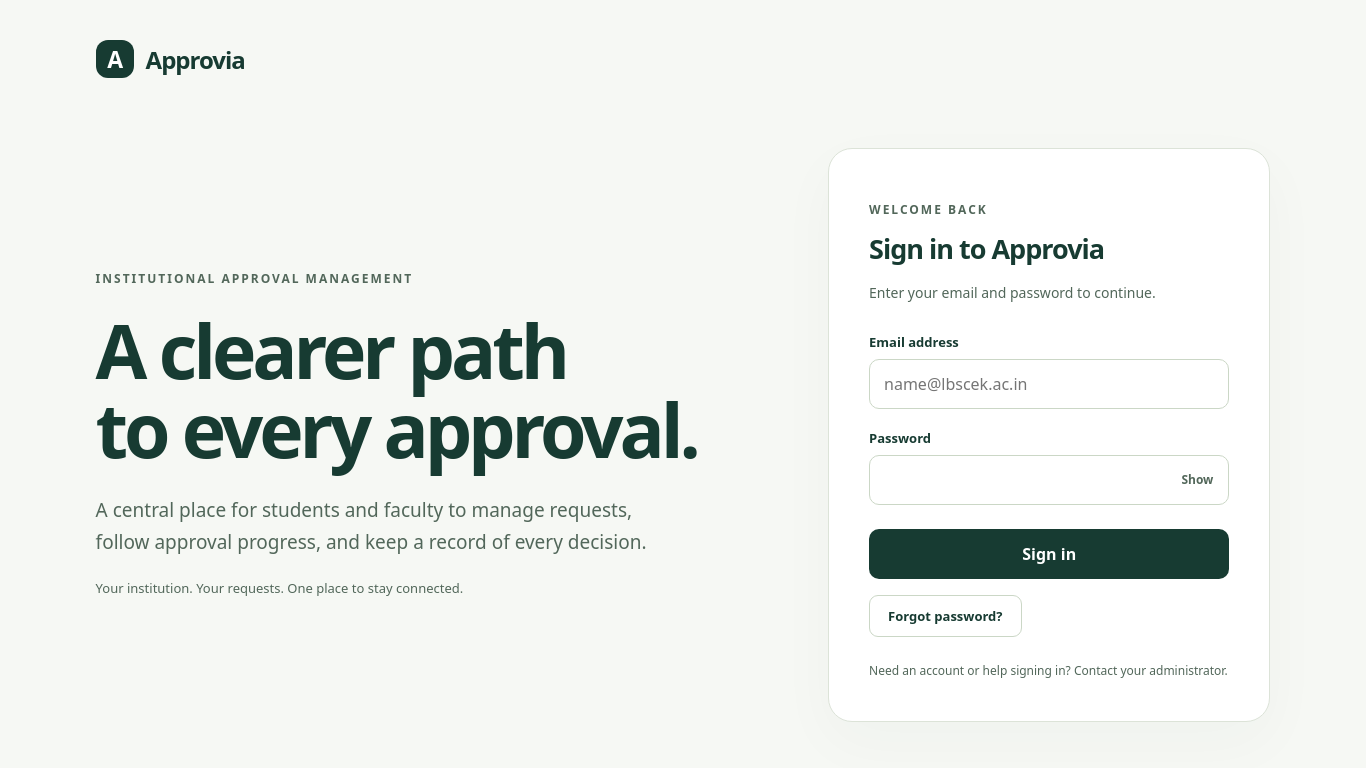
Test: email/password authentication › signs in using the supplied credentials and shows the authenticated email
The width and height of the screenshot is (1366, 768).
Expected: the button "Sign in" is shown, [869,529,1229,579]
Type "student@example.edu" into the field labelled "Email address".
click(1049, 384); type("student@example.edu")  # box [869,359,1229,409]
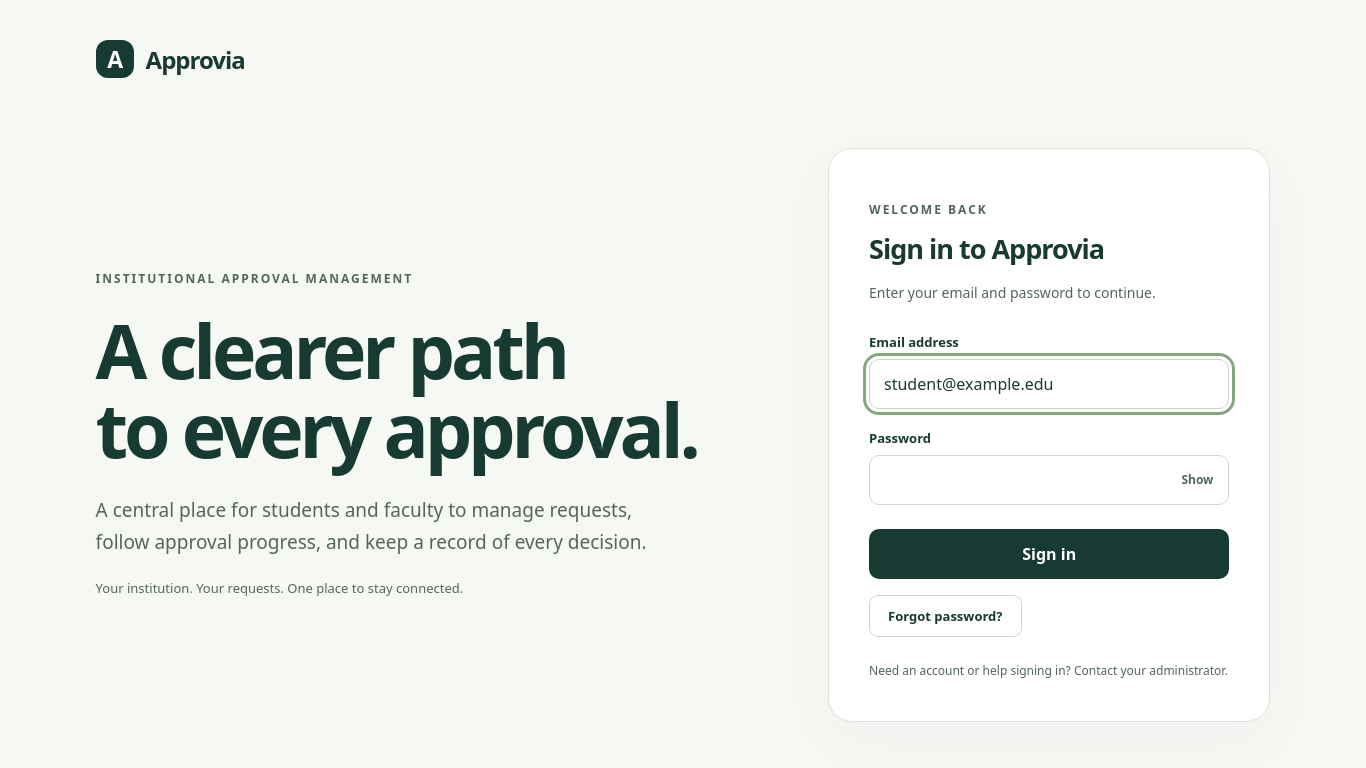
Type "example-password" into the password field labelled "Password".
click(1049, 480); type("example-password")  # box [869,455,1229,505]
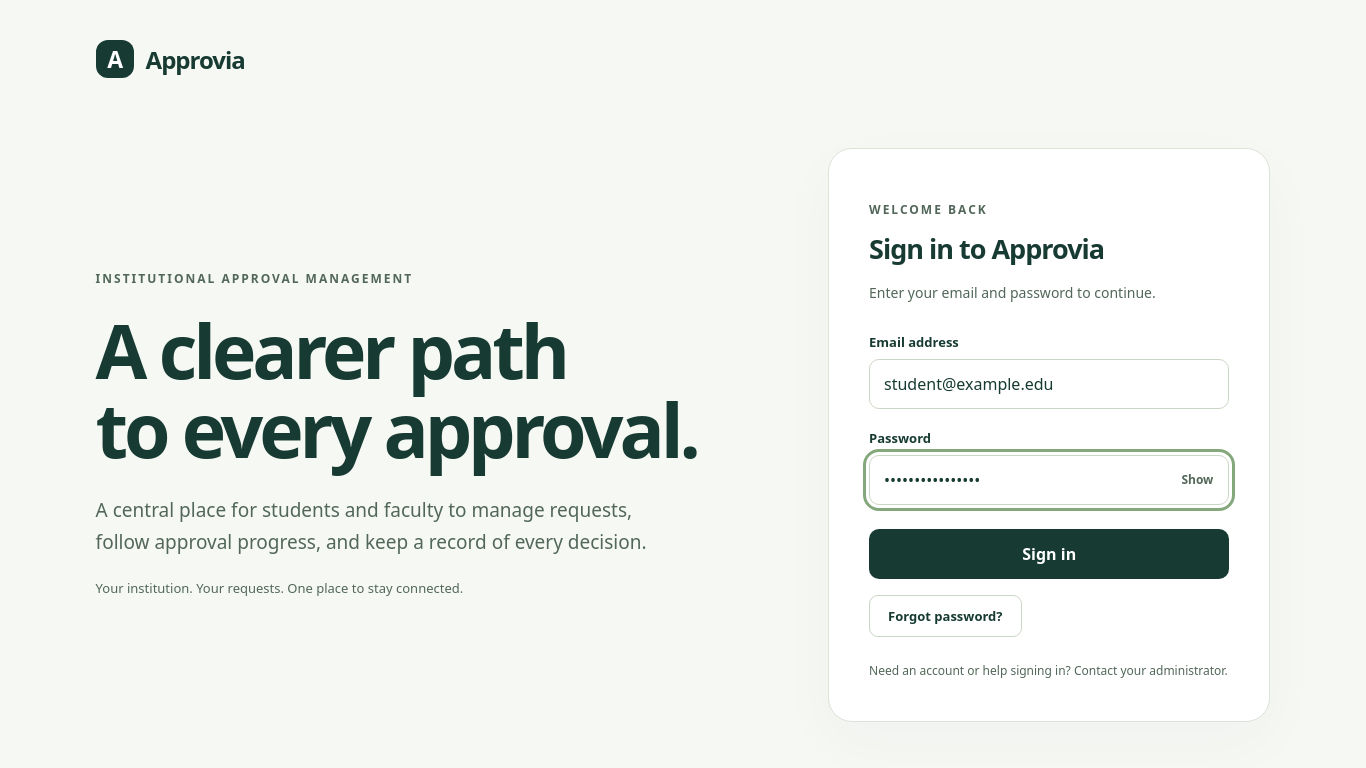
Click the button "Sign in".
click(1049, 554)  # box [869,529,1229,579]
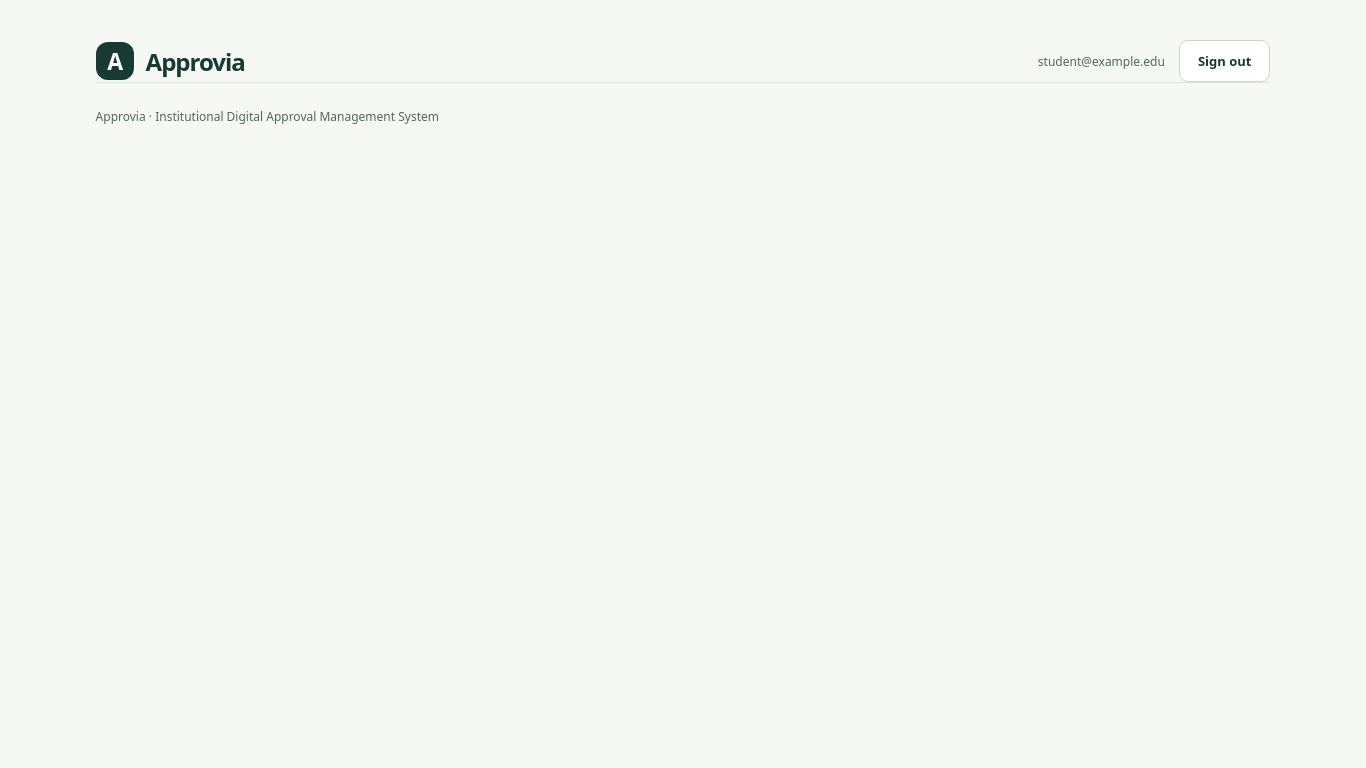
Expected: the text "student@example.edu" is shown, [1038,52,1165,70]
Expected: the text labelled "password" is gone
